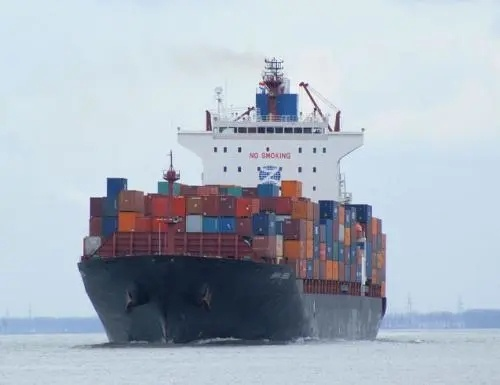Cargoship: (78, 53, 395, 343)
